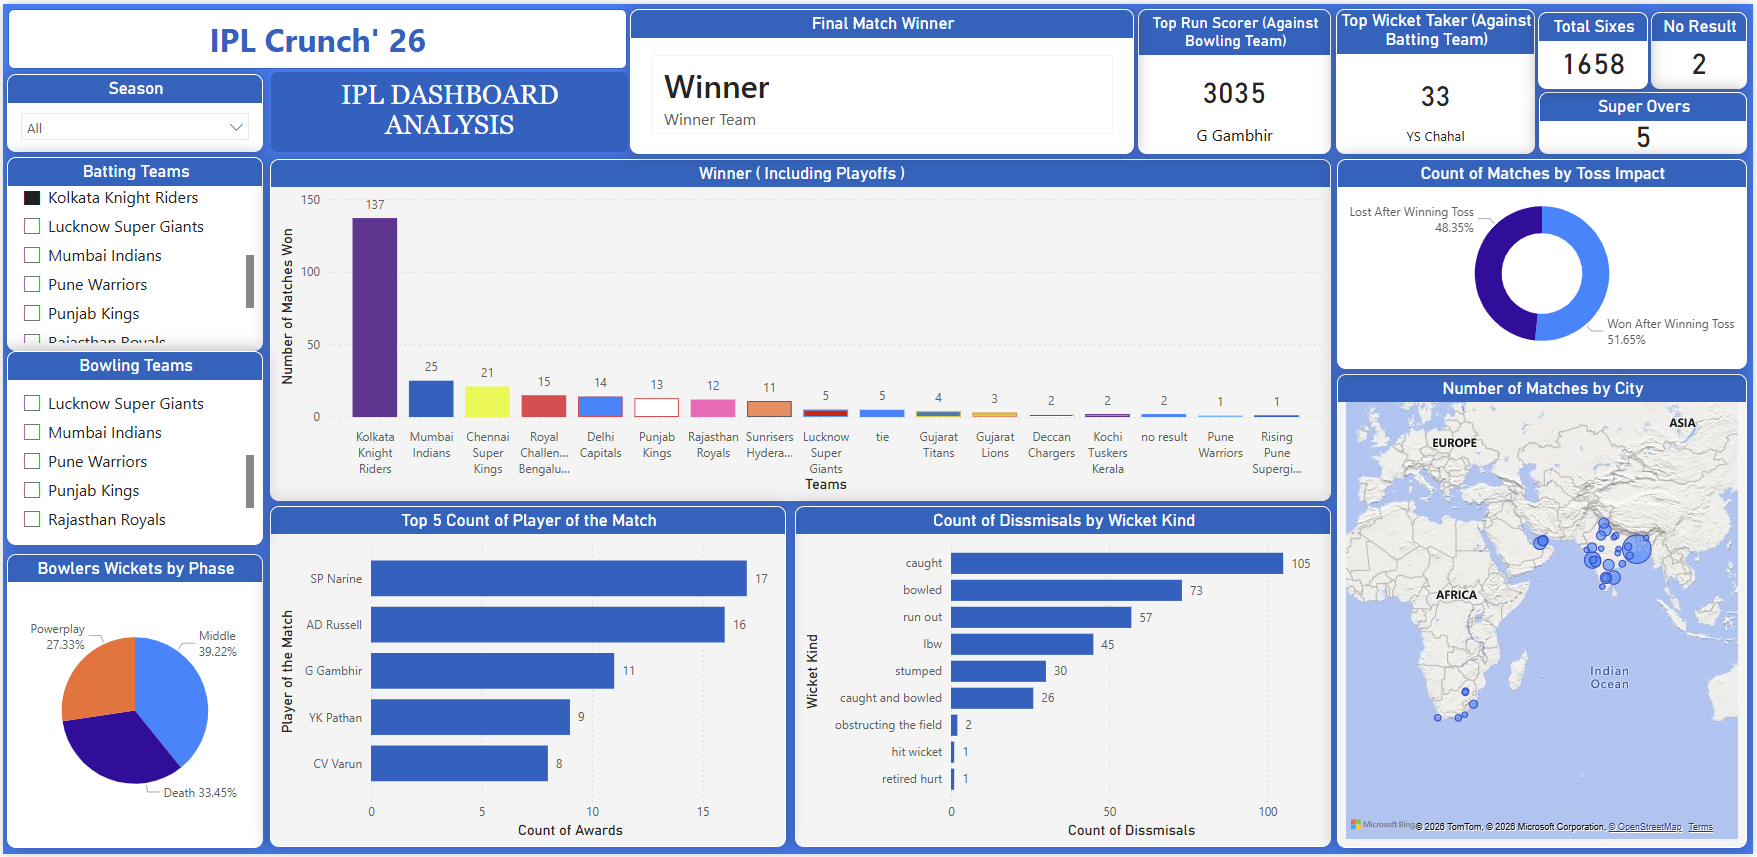

The page's visual inventory and layout, read from the dashboard file:
{"tool":"powerbi","page":{"name":"Page 1","canvas":[1750,850],"ordinal":0},"visuals":[{"type":"slicer","title":"Season","fields":{"Values":["Final Matches Dates.Seasons"]},"box":[4,70,256,78],"z":0},{"type":"slicer","title":"Teams","fields":{"Values":["Venue Data.Teams"]},"box":[4,154,256,394],"z":1000},{"type":"columnChart","title":"Winner ( Including Playoffs )","fields":{"Category":["ipl_cleaned.winner"],"Y":["Count(IPL Matches.match_id)"]},"box":[266.7,155,1061.7,342],"z":2000},{"type":"kpi","title":"No Result","fields":{"TrendLine":["ipl_cleaned.winner"],"Indicator":["Count(ipl_cleaned.date (bins))"]},"box":[1648,8,96,77],"z":3000},{"type":"kpi","title":"Top Run Scorer","fields":{"Indicator":["IPL Matches.Total Runs"],"TrendLine":["IPL Matches.batter"]},"box":[1135,5,193,145],"z":4000},{"type":"kpi","title":"Top Wicket Taker","fields":{"TrendLine":["IPL Matches.bowler"]},"box":[1333,5,199,145],"z":5000},{"type":"pieChart","fields":{"Category":["ipl_cleaned.phase"],"Y":["Sum(IPL Matches.is_bowler_wicket)"]},"box":[4,556,256,288],"z":6000},{"type":"barChart","fields":{"Category":["ipl_cleaned.wicket_kind"],"Y":["Count(ipl_cleaned.wicket_player_out)"]},"box":[791.7,501.7,536.7,341.7],"z":7000},{"type":"kpi","title":"Super Overs","fields":{"Indicator":["IPL Matches.Total Super Overs"],"TrendLine":["IPL Matches.is_super_over"]},"box":[1536,88,208,62],"z":8000},{"type":"barChart","title":"Top 5 Count of Player of the Match","fields":{"Y":["Count(ipl_cleaned.date (bins))"],"Category":["ipl_cleaned.player_of_match"]},"box":[266.7,501.7,516.7,341.7],"z":9000},{"type":"map","title":"Number of Matches by City","fields":{"Category":["ipl_cleaned.city"],"Size":["Count(ipl_cleaned.date (bins))"]},"box":[1334,370,410,474],"z":10000},{"type":"cardVisual","title":"Final Match Winner","fields":{"Data":["IPL Matches.Winner_Team"]},"box":[627,5,504,145],"z":11000},{"type":"donutChart","fields":{"Category":["IPL Matches.Toss_Impact"],"Y":["Count(IPL Matches.match_id)"]},"box":[1334,155,410,210],"z":12000},{"type":"textbox","box":[5,5,619,60],"z":13000},{"type":"textbox","box":[267.5,67.5,357.5,80],"z":14000},{"type":"kpi","title":"Total Sixes","fields":{"Indicator":["IPL Matches.Total Sixes"],"TrendLine":["IPL Matches.runs_batter"]},"box":[1535,8,110,77],"z":15000}]}

Visuals, with their boxes in screenshot pixels (x1, y1, x2, y2), scaled from the page's 1750x850 canvas onto the 1757x857 screenshot:
"Season" slicer: bbox=(4, 71, 261, 149)
"Teams" slicer: bbox=(4, 155, 261, 553)
"Winner ( Including Playoffs )" columnChart: bbox=(268, 156, 1334, 501)
"No Result" kpi: bbox=(1655, 8, 1751, 86)
"Top Run Scorer" kpi: bbox=(1140, 5, 1333, 151)
"Top Wicket Taker" kpi: bbox=(1338, 5, 1538, 151)
pieChart - ipl_cleaned.phase x Sum(IPL Matches.is_bowler_wicket): bbox=(4, 561, 261, 851)
barChart - ipl_cleaned.wicket_kind x Count(ipl_cleaned.wicket_player_out): bbox=(795, 506, 1334, 850)
"Super Overs" kpi: bbox=(1542, 89, 1751, 151)
"Top 5 Count of Player of the Match" barChart: bbox=(268, 506, 787, 850)
"Number of Matches by City" map: bbox=(1339, 373, 1751, 851)
"Final Match Winner" cardVisual: bbox=(630, 5, 1136, 151)
donutChart - IPL Matches.Toss_Impact x Count(IPL Matches.match_id): bbox=(1339, 156, 1751, 368)
textbox: bbox=(5, 5, 626, 66)
textbox: bbox=(269, 68, 628, 149)
"Total Sixes" kpi: bbox=(1541, 8, 1652, 86)
